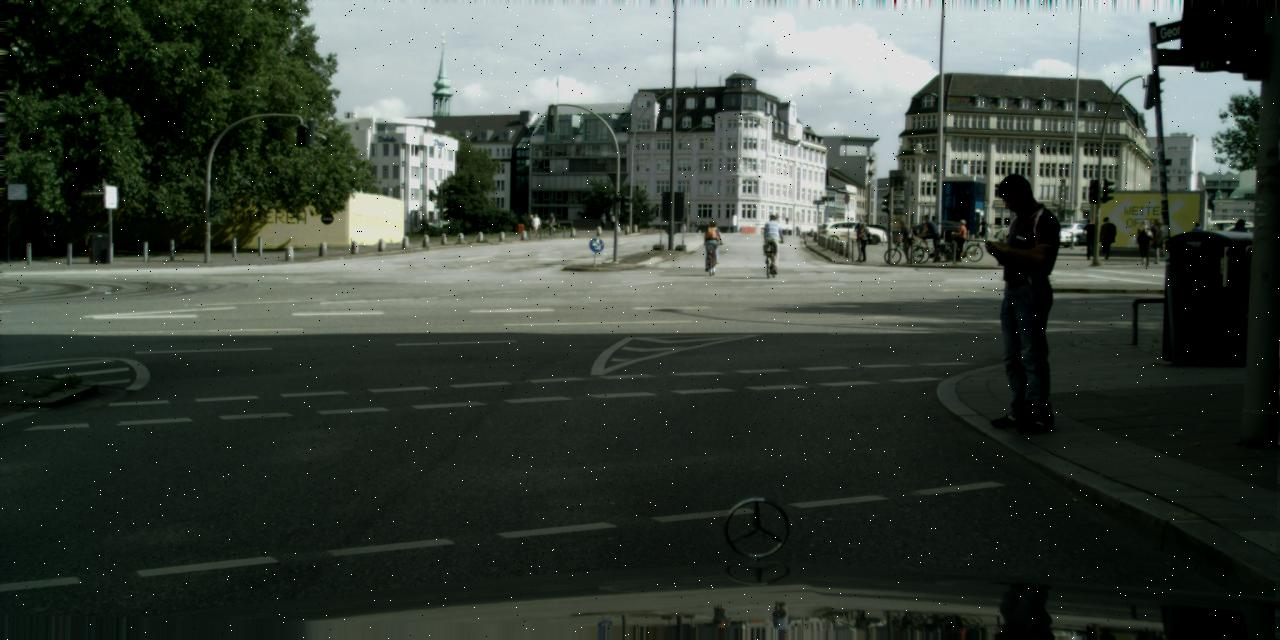ped: (964, 174, 1068, 430), (760, 214, 779, 264), (702, 221, 722, 267), (1230, 220, 1248, 266), (1135, 219, 1153, 264), (854, 218, 872, 261), (1081, 217, 1099, 260), (1150, 219, 1167, 262), (921, 214, 938, 257), (1098, 216, 1115, 258), (850, 220, 867, 261), (1212, 222, 1228, 262), (1189, 221, 1205, 261), (955, 219, 969, 255), (898, 222, 912, 257), (526, 214, 536, 237), (531, 214, 540, 236), (546, 212, 554, 232), (979, 217, 987, 236), (600, 212, 606, 228), (610, 213, 616, 229)
